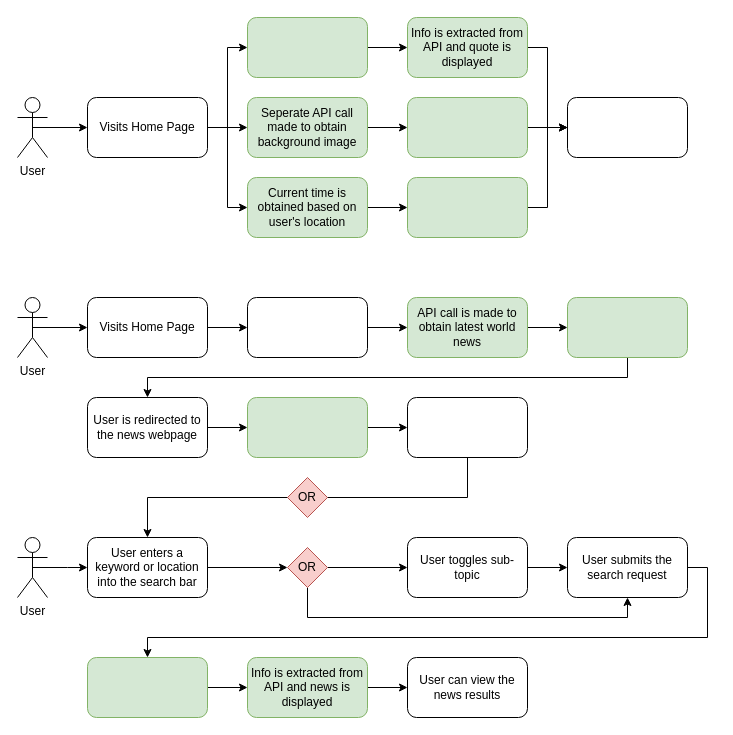
Some shapes in this 733 by 735 pixel diagram are drawn without their labels. Here are the shapes that lost their labels. From the top down, the centre of each, then its label:
At (x=307, y=47): "API call made to obtain inspirational quote".
At (x=467, y=127): "Info is extracted from API and background image is displayed".
At (x=627, y=127): "User reads quote, time and views image".
At (x=467, y=207): "User's current time is displayed".
At (x=307, y=327): "Selects the news section on the nav bar".
At (x=627, y=327): "Info is extracted from API".
At (x=307, y=427): "Extracted news data is displayed".
At (x=467, y=427): "User views the latest world news".
At (x=147, y=687): "API call is made to extract news data based on user entered information".
